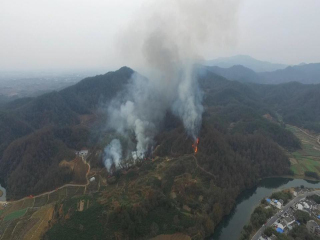smoke: (92, 2, 214, 169)
